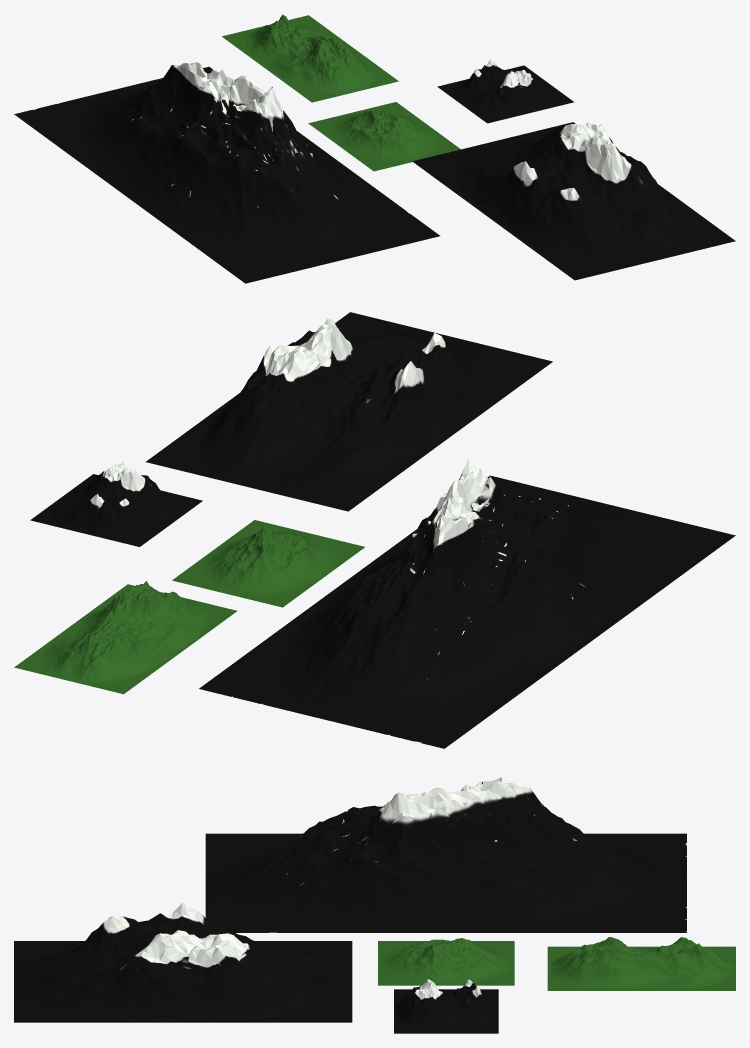
The model's file is Hegy, domb, talaj.fbx.
The picture shows the model from 3 angles, top to bottom: view 1: azimuth 30°, elevation 25°; view 2: azimuth 150°, elevation 25°; view 3: azimuth 270°, elevation 25°; orthographic projection. The views are drawn at different scales.
Parts seen in each view (by area): view 1: Nagy hegy, Két hegy, Két domb, Domb, Kis két hegy; view 2: Nagy hegy, Két hegy, Két domb, Domb, Kis két hegy; view 3: Nagy hegy, Két hegy, Két domb, Domb, Kis két hegy.
Boxes of the visible parts, left/top/right/bottom form: Nagy hegy: left=14, top=62, right=439, bottom=283; Két hegy: left=412, top=122, right=735, bottom=280; Két domb: left=222, top=14, right=398, bottom=102; Domb: left=308, top=102, right=460, bottom=171; Kis két hegy: left=437, top=59, right=573, bottom=123; Nagy hegy: left=199, top=458, right=735, bottom=748; Két hegy: left=146, top=312, right=552, bottom=511; Két domb: left=14, top=581, right=236, bottom=694; Domb: left=172, top=520, right=364, bottom=607; Kis két hegy: left=30, top=463, right=202, bottom=546; Nagy hegy: left=205, top=777, right=686, bottom=932; Két hegy: left=14, top=903, right=352, bottom=1022; Két domb: left=547, top=937, right=735, bottom=990; Domb: left=378, top=938, right=514, bottom=985; Kis két hegy: left=394, top=979, right=498, bottom=1033.
Size of the model in its own units: 21.08 by 4.8 by 30.2.
3 materials, 2 textured.
